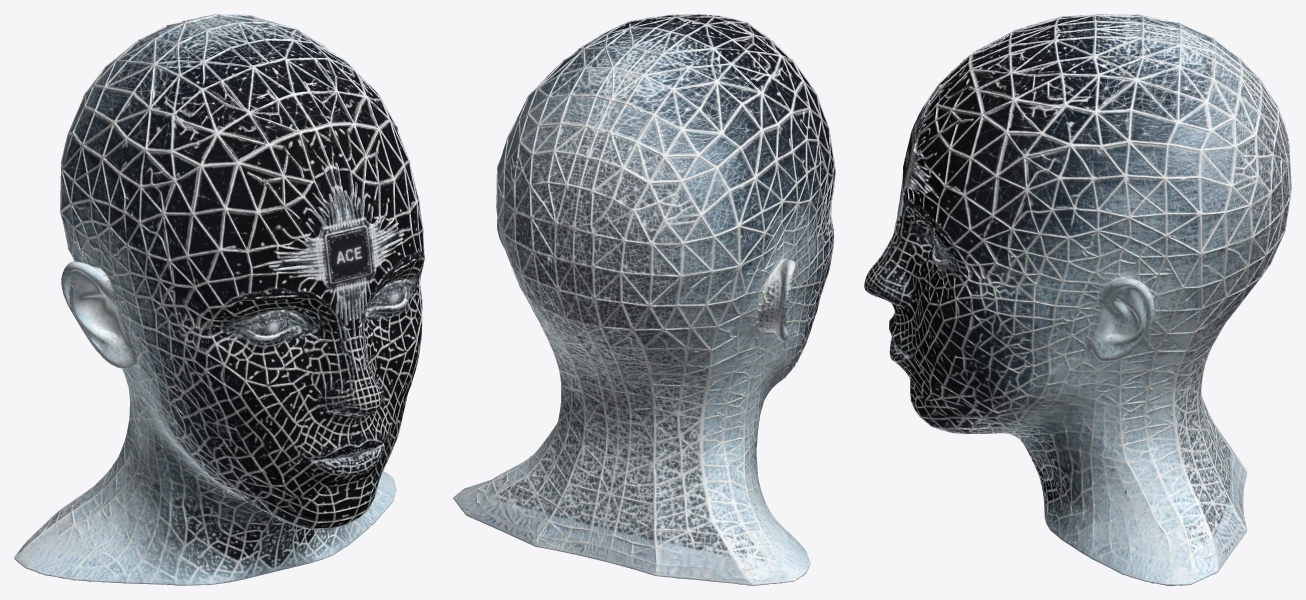
Rendered from ace.glb.
3 views of the same model, side by side, from view 1: azimuth 30°, elevation 25°; view 2: azimuth 150°, elevation 25°; view 3: azimuth 270°, elevation 25° (orthographic). The views are drawn at different scales.
Size of the model in its own units: 1.43 by 1.9 by 1.54.
Materials: 1 (1 with a texture image).
